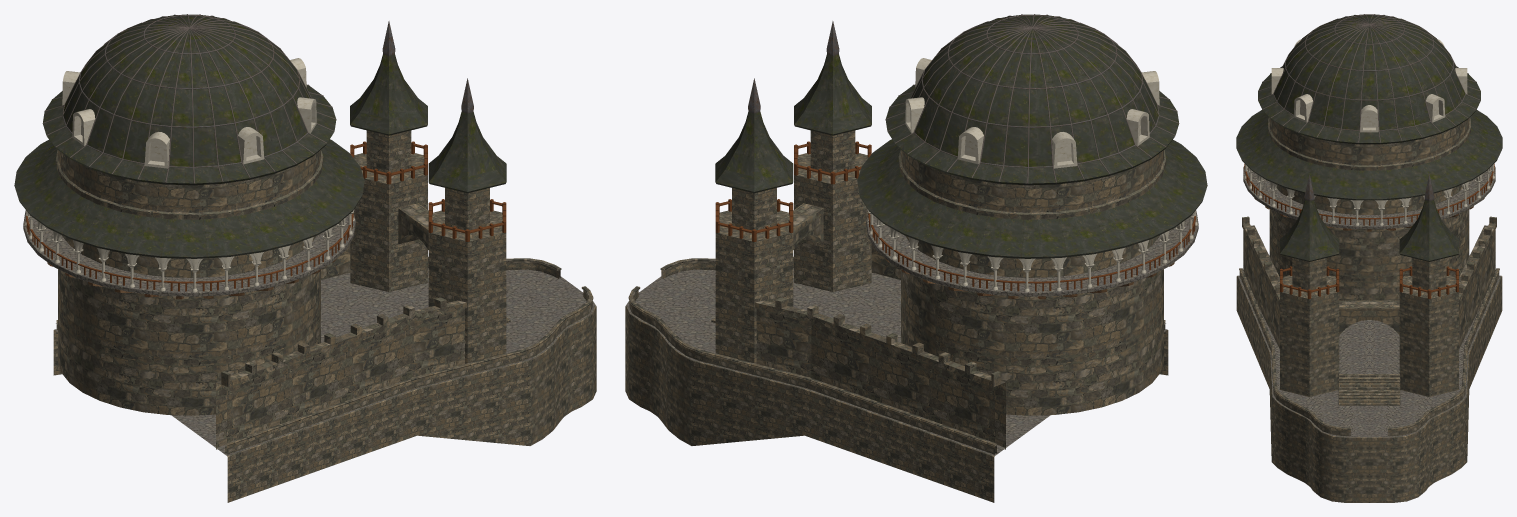
Rendered from CaveCastle_MAIN.fbx.
The picture shows the model from 3 angles, left to right: view 1: azimuth 30°, elevation 25°; view 2: azimuth 150°, elevation 25°; view 3: azimuth 270°, elevation 25°; orthographic projection. The views are drawn at different scales.
Visible parts, largest first — view 1: CastleMain, Cas, CaveBridgeSecondPlatform, Cube, CaveBridgeRailings.002, Sphere.002, CastleTowerRoof, Sphere.029, CastleBalcony, CaveBridgeRailings.001, Cube.001, Sphere.025 (+4 smaller); view 2: CastleMain, Cas, CaveBridgeSecondPlatform, Cube, CaveBridgeRailings.002, Sphere.002, CastleTowerRoof, Sphere.029, CastleBalcony, CaveBridgeRailings.001, Cube.001, Sphere.025 (+4 smaller); view 3: CaveBridgeSecondPlatform, Cas, Cube, CastleMain, Sphere.002, CaveBridgeRailings.002, Sphere.029, CastleTowerRoof, CastleBalcony, Cube.001, CaveBridgeRailings.001, CaveBridgeStairs1.001 (+6 smaller).
Boxes of the visible parts, x1=… form: CastleMain: x1=55, y1=150, x2=323, y2=415; Cas: x1=43, y1=14, x2=336, y2=185; CaveBridgeSecondPlatform: x1=53, y1=268, x2=596, y2=502; Cube: x1=350, y1=130, x2=506, y2=363; CaveBridgeRailings.002: x1=216, y1=243, x2=466, y2=449; Sphere.002: x1=14, y1=139, x2=364, y2=258; CastleTowerRoof: x1=350, y1=53, x2=506, y2=193; Sphere.029: x1=42, y1=14, x2=336, y2=183; CastleBalcony: x1=23, y1=211, x2=355, y2=296; CaveBridgeRailings.001: x1=56, y1=256, x2=593, y2=454; Cube.001: x1=56, y1=273, x2=428, y2=428; Sphere.025: x1=62, y1=58, x2=316, y2=168; CastleMain: x1=898, y1=150, x2=1166, y2=415; Cas: x1=885, y1=14, x2=1178, y2=185; CaveBridgeSecondPlatform: x1=625, y1=268, x2=1168, y2=502; Cube: x1=715, y1=130, x2=871, y2=363; CaveBridgeRailings.002: x1=755, y1=243, x2=1005, y2=449; Sphere.002: x1=857, y1=139, x2=1207, y2=258; CastleTowerRoof: x1=715, y1=53, x2=871, y2=193; Sphere.029: x1=885, y1=14, x2=1179, y2=183; CastleBalcony: x1=866, y1=211, x2=1198, y2=296; CaveBridgeRailings.001: x1=628, y1=256, x2=1165, y2=454; Cube.001: x1=793, y1=273, x2=1165, y2=428; Sphere.025: x1=905, y1=58, x2=1159, y2=168; CaveBridgeSecondPlatform: x1=1236, y1=275, x2=1502, y2=502; Cas: x1=1258, y1=14, x2=1480, y2=144; Cube: x1=1280, y1=258, x2=1458, y2=396; CastleMain: x1=1268, y1=117, x2=1470, y2=300; Sphere.002: x1=1236, y1=110, x2=1502, y2=200; CaveBridgeRailings.002: x1=1242, y1=216, x2=1496, y2=348; Sphere.029: x1=1258, y1=14, x2=1480, y2=143; CastleTowerRoof: x1=1280, y1=199, x2=1458, y2=261; CastleBalcony: x1=1243, y1=166, x2=1495, y2=229; Cube.001: x1=1269, y1=255, x2=1469, y2=373; CaveBridgeRailings.001: x1=1239, y1=268, x2=1499, y2=436; CaveBridgeStairs1.001: x1=1338, y1=374, x2=1400, y2=405.
Size of the model in its own units: 62.42 by 48.72 by 35.08.
